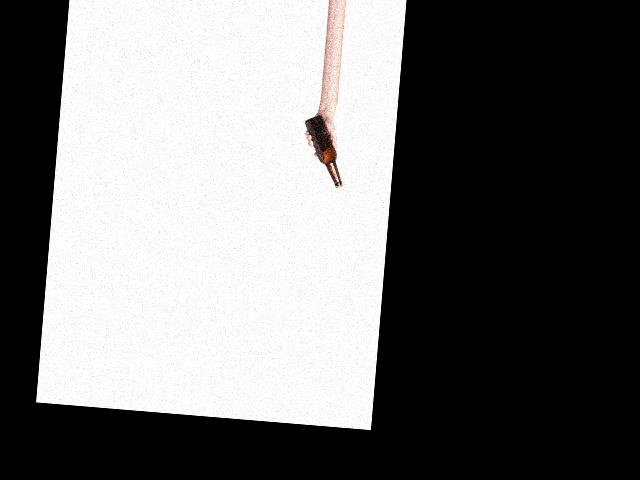beer: (300, 114, 348, 188)
